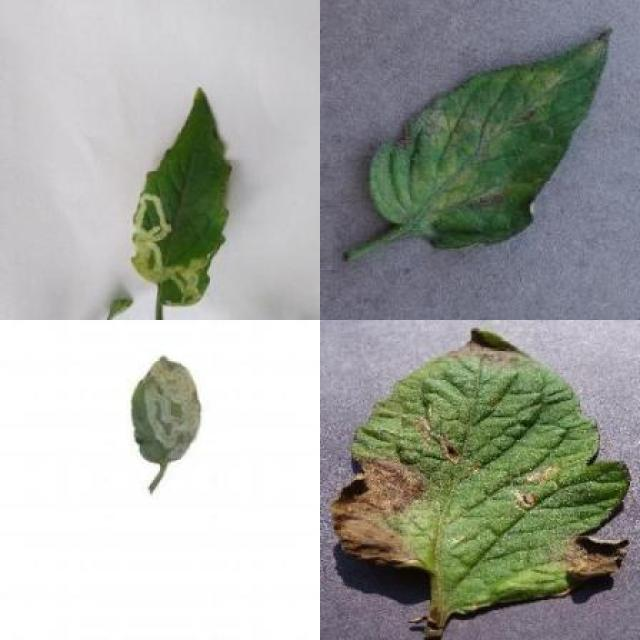Late Blight: (332, 330, 632, 620)
Leaf Miner: (127, 90, 234, 307), (132, 354, 204, 466)
Leaf Mold: (370, 24, 613, 250)
